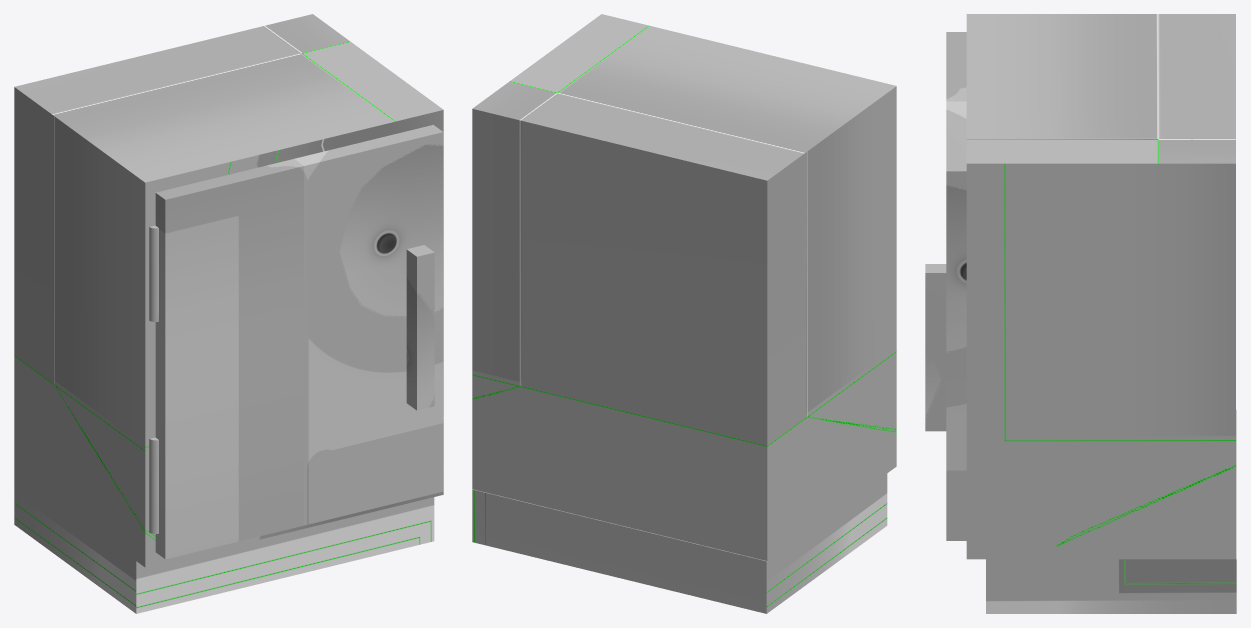
The model's file is Chest4.FBX.
The picture shows the model from 3 angles, left to right: view 1: azimuth 30°, elevation 25°; view 2: azimuth 150°, elevation 25°; view 3: azimuth 270°, elevation 25°; orthographic projection. The views are drawn at different scales.
Parts seen in each view (by area): view 1: chestbox4, Object003; view 2: chestbox4; view 3: chestbox4, Object003.
Boxes of the visible parts, <box> form: chestbox4: <box>14,14,443,613</box>; Object003: <box>149,125,443,559</box>; chestbox4: <box>472,14,896,613</box>; chestbox4: <box>966,14,1236,613</box>; Object003: <box>925,32,966,540</box>.
Size of the model in its own units: 19.21 by 26.94 by 16.89.
2 materials, 2 textured.
